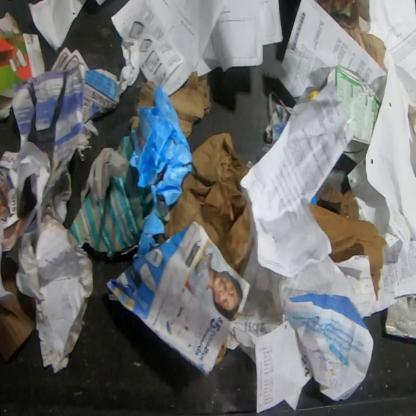cardboard: (154, 132, 252, 276), (306, 182, 388, 301), (0, 10, 46, 120), (326, 65, 382, 146), (0, 250, 37, 364), (168, 72, 212, 138), (346, 19, 387, 70), (128, 80, 156, 148), (384, 295, 415, 341)
soft_plastic: (128, 84, 193, 257)
